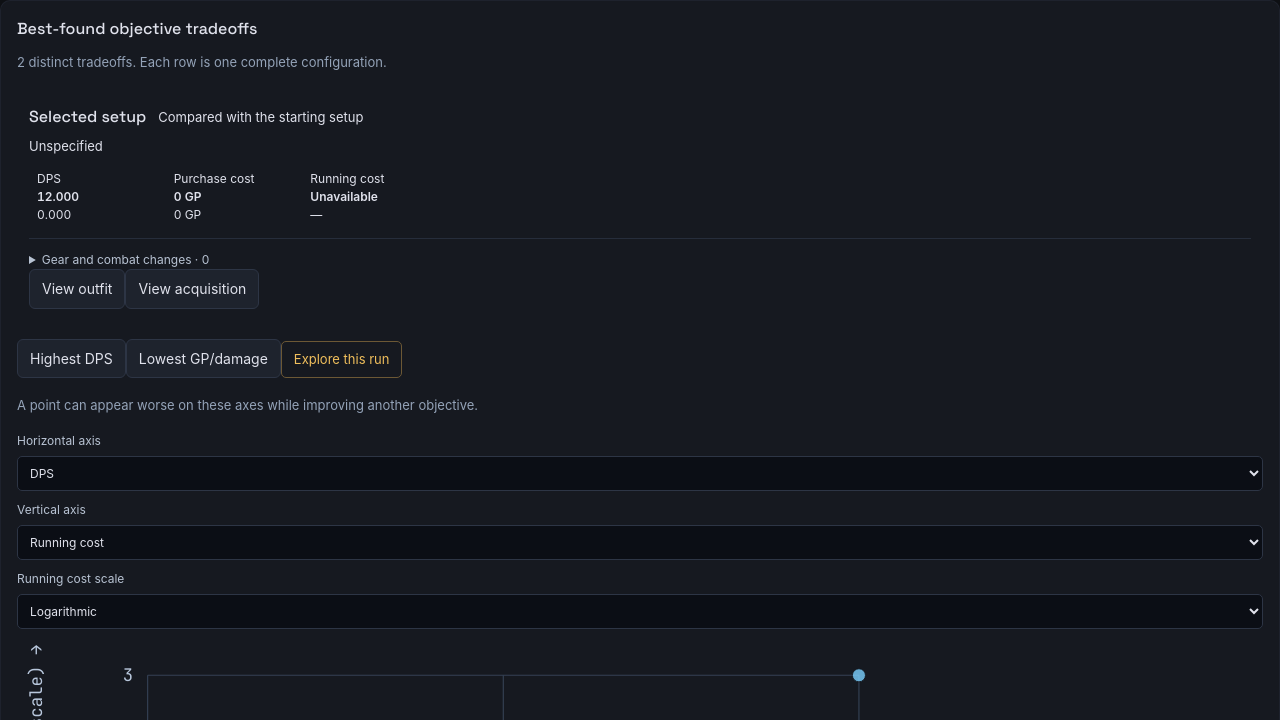
selects the cheapest point and the unpriced cap DPS winner independently
Click the button "Lowest GP/damage" at x=203, y=358, box [126, 339, 281, 378]
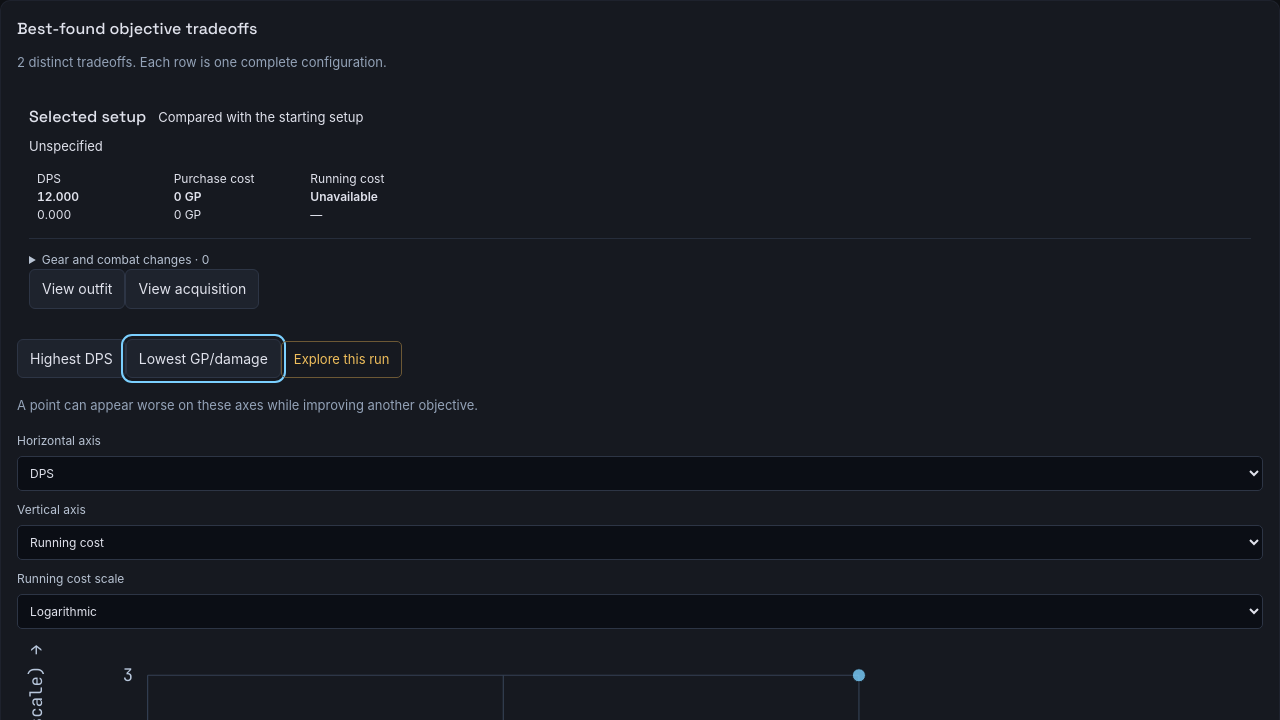
Click the button "Highest DPS" at x=71, y=358, box [17, 339, 126, 378]
(page scrolled)
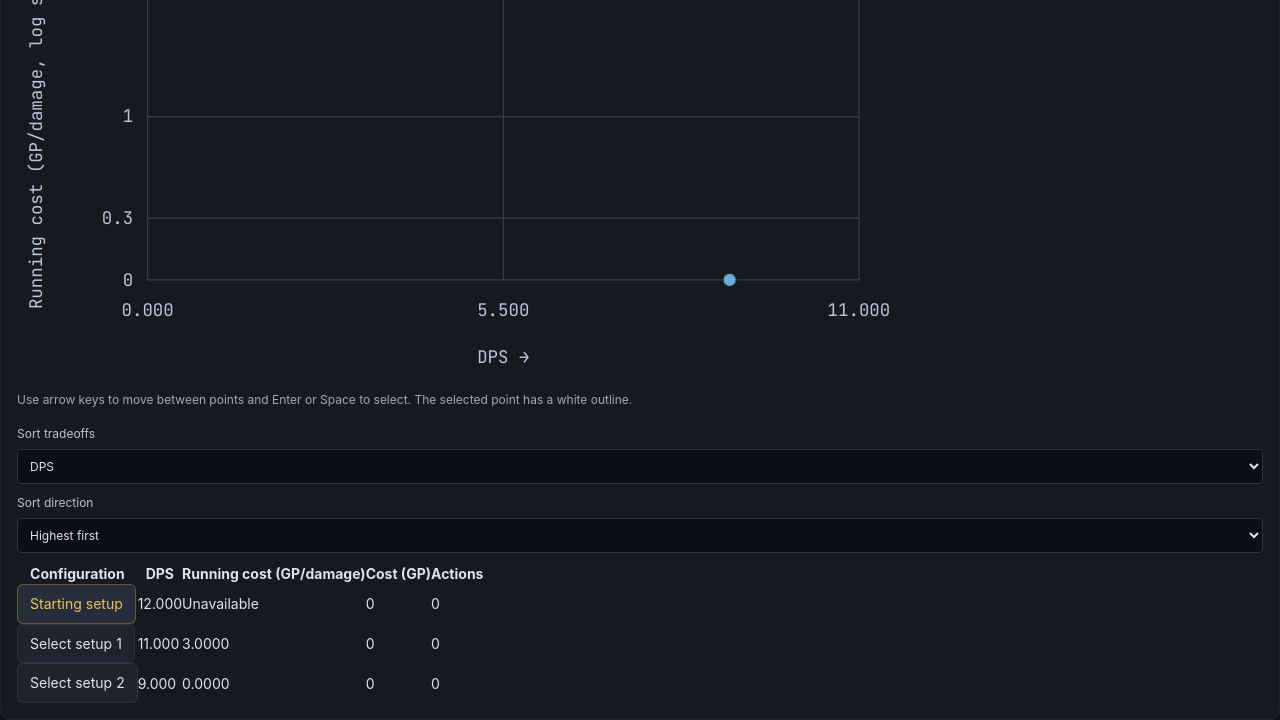
Select "Running cost" in the dropdown labelled "Sort tradeoffs" at x=640, y=467, box [17, 449, 1263, 484]
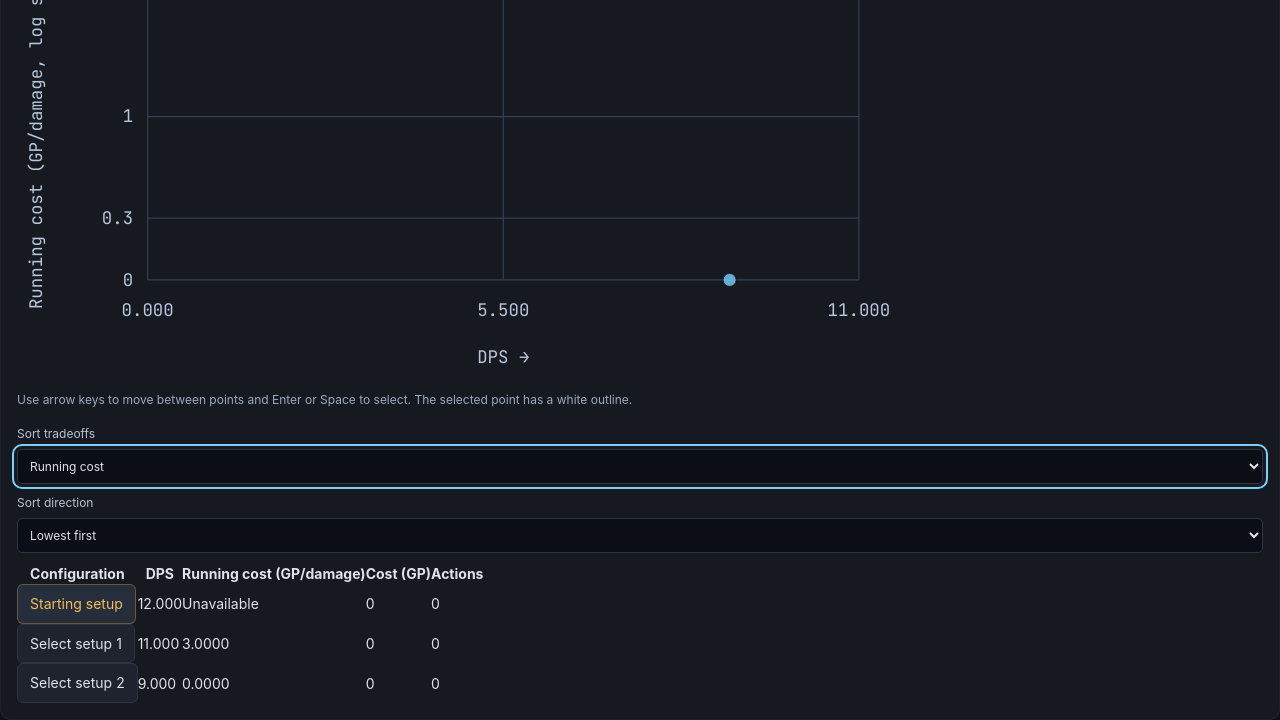
Expected: the cell "Unavailable" is shown, [182, 584, 366, 624]
Expected: the dropdown labelled "Sort direction" shows "Lowest first", [17, 518, 1263, 553]
